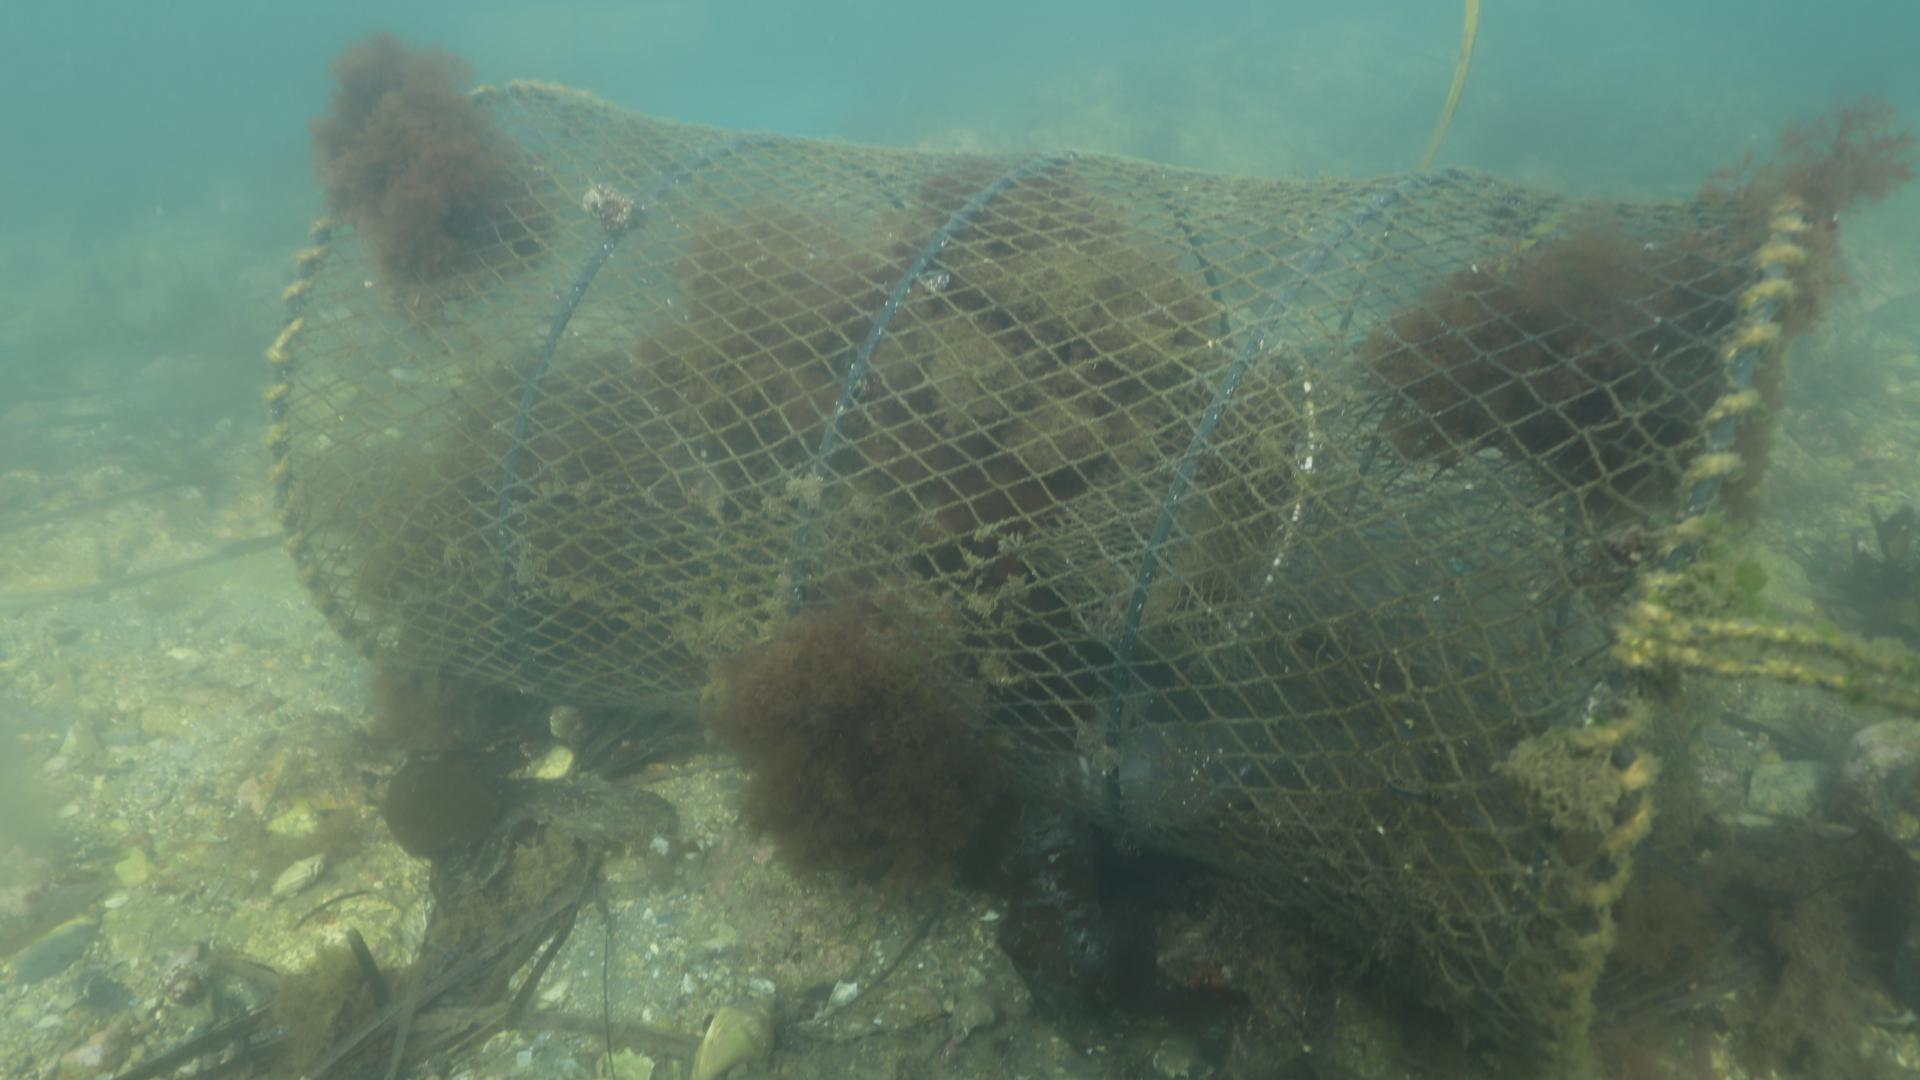spring fish trap: (261, 78, 1808, 1080)
